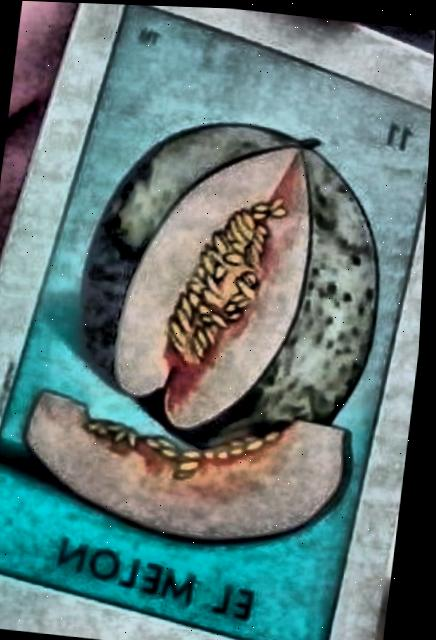El Melon: (0, 4, 432, 640)
